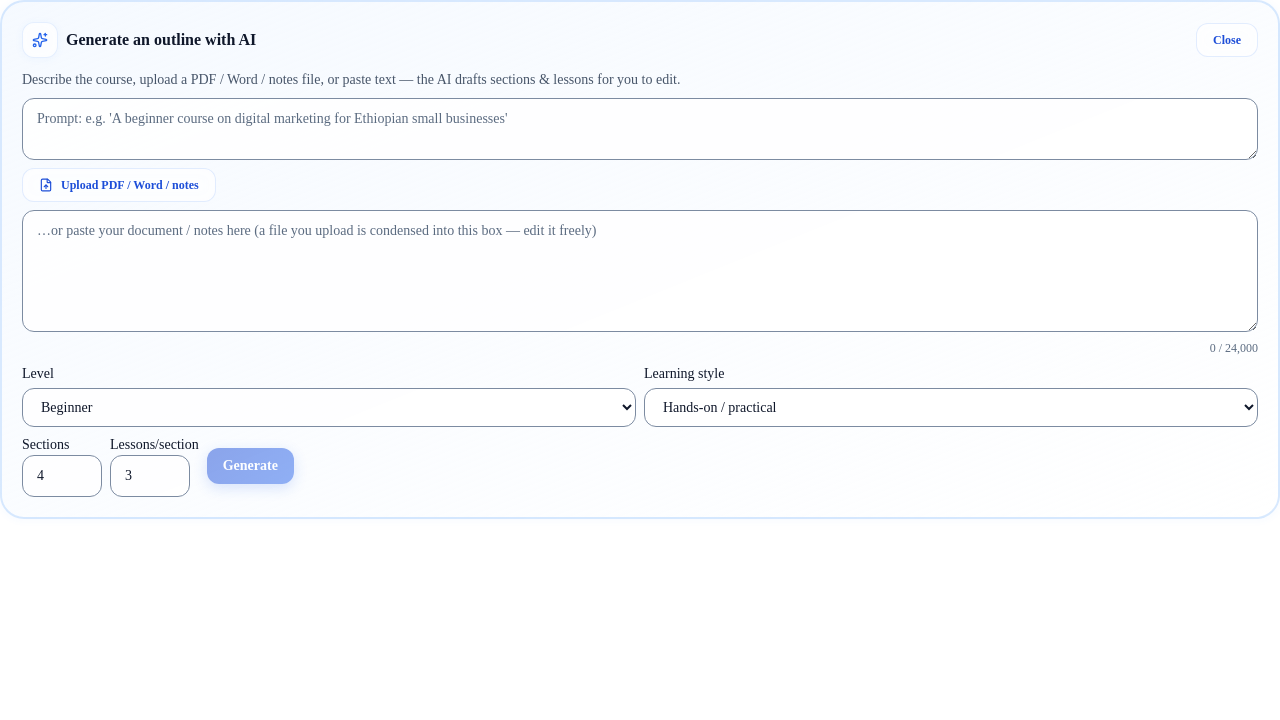
Test case: <StructureGenerator /> generate and apply › never claims the headings when the API does not say how the outline was built
Replace the text in the text box with placeholder "paste your document" with "Chapter 1 Soil basics" at [640, 271], box 22,210 -> 1258,332
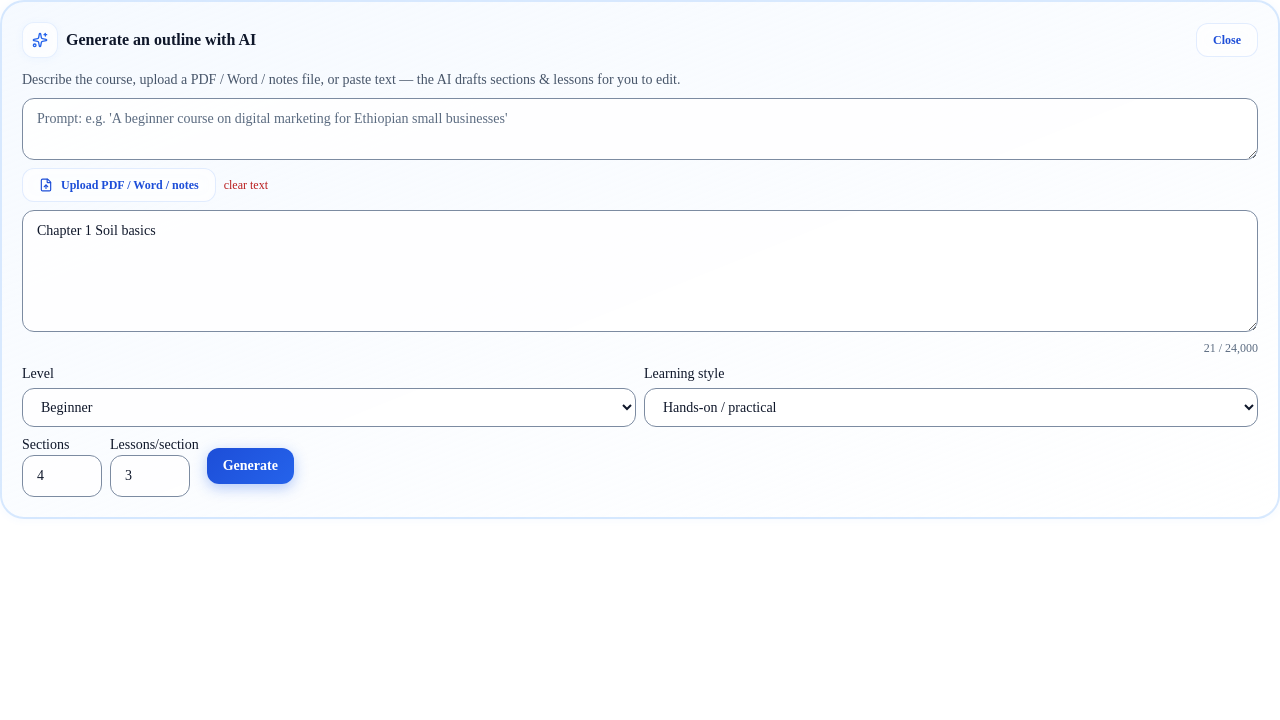
Click the button "Generate" at [250, 466], box 207,448 -> 294,484
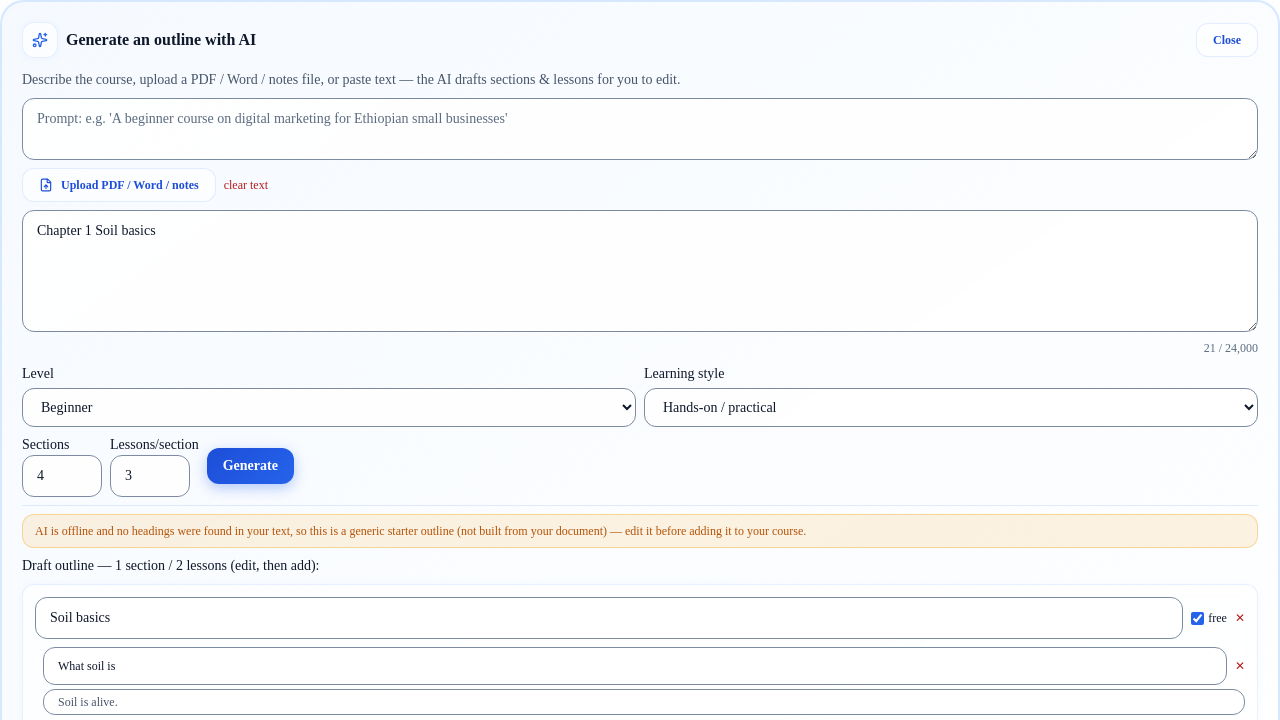
Result: the text "generic starter outline" is shown at 35,524 -> 806,538
